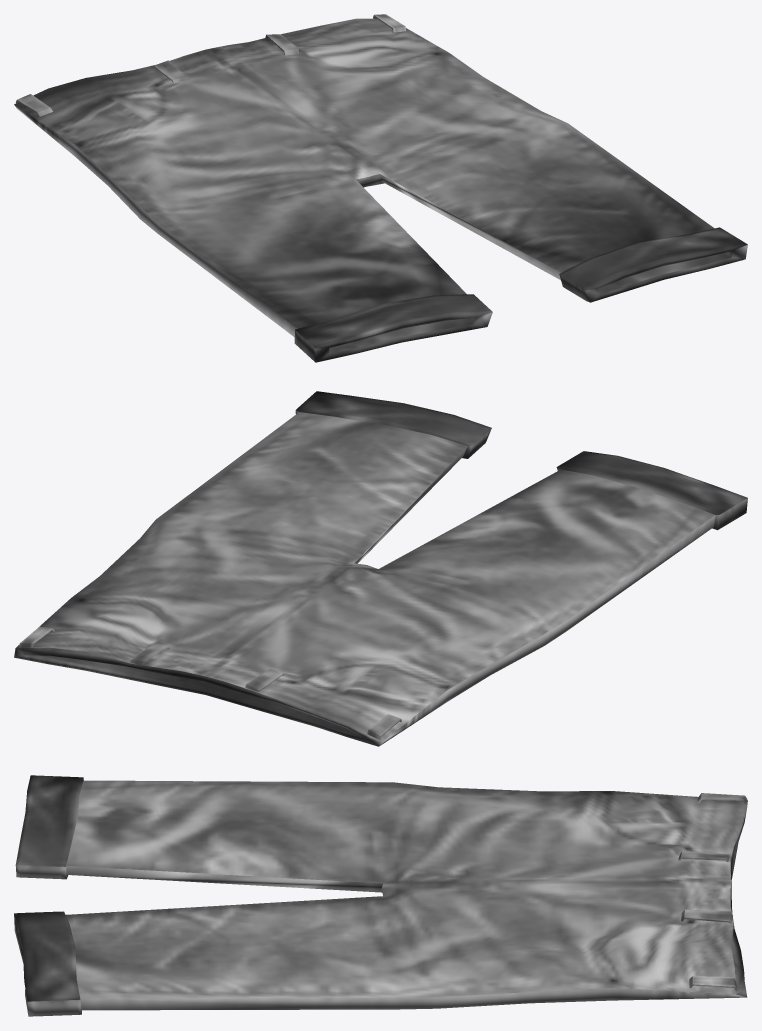
File: sweethome3d-scopia-short.glb
3 renders of one model, top to bottom at view 1: azimuth 30°, elevation 25°; view 2: azimuth 150°, elevation 25°; view 3: azimuth 270°, elevation 25°, orthographic. The views are drawn at different scales.
Visible parts, largest first — view 1: textured_Plane.002, strips-textured_Plane.003; view 2: textured_Plane.002, strips-textured_Plane.003; view 3: textured_Plane.002, strips-textured_Plane.003.
Part boxes in pixels (x1=…): textured_Plane.002: x1=14, y1=18, x2=747, y2=362; strips-textured_Plane.003: x1=16, y1=14, x2=405, y2=116; textured_Plane.002: x1=14, y1=391, x2=747, y2=746; strips-textured_Plane.003: x1=18, y1=626, x2=401, y2=740; textured_Plane.002: x1=14, y1=775, x2=747, y2=1016; strips-textured_Plane.003: x1=678, y1=793, x2=747, y2=990.
Bounding box in the file's own units: 37.83 × 1.94 × 51.86.
2 materials, 1 textured.
